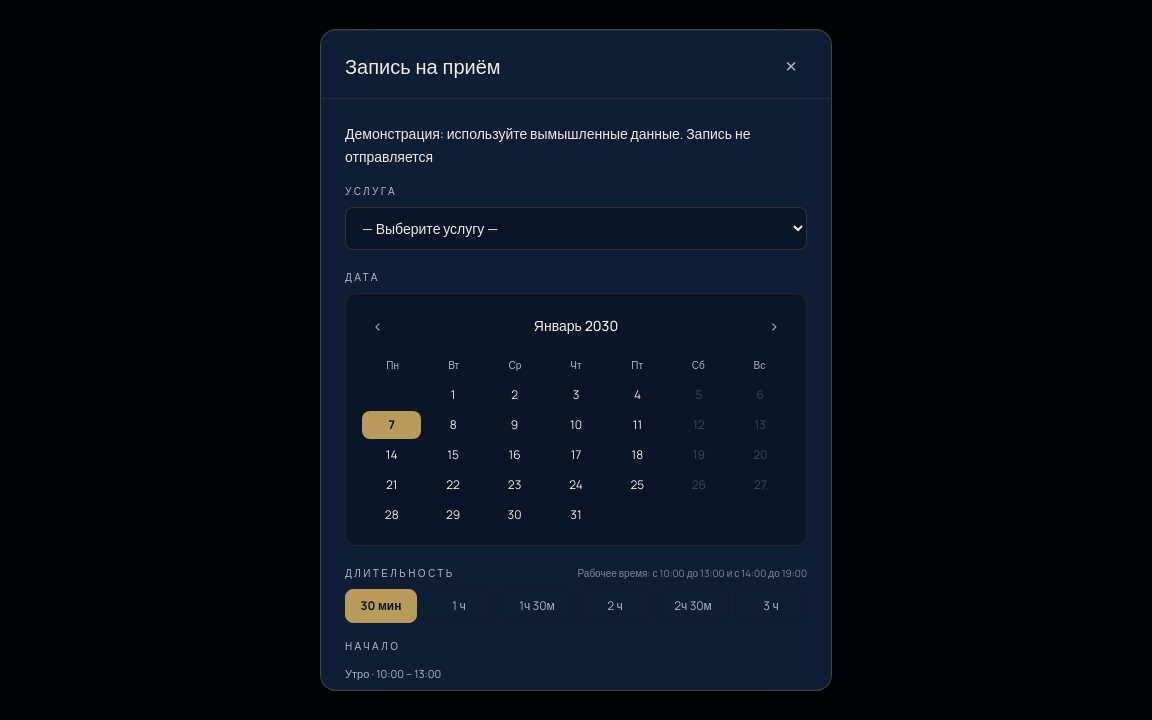
completes a browser-only demo with consent without any network requests
expect the text "Демонстрация: используйте вымышленные данные" is shown: met, box [345, 124, 750, 166]
Select "Удостоверение сделок с недвижимостью" in the dropdown: (576, 229) [345, 207, 807, 250]
(page scrolled)
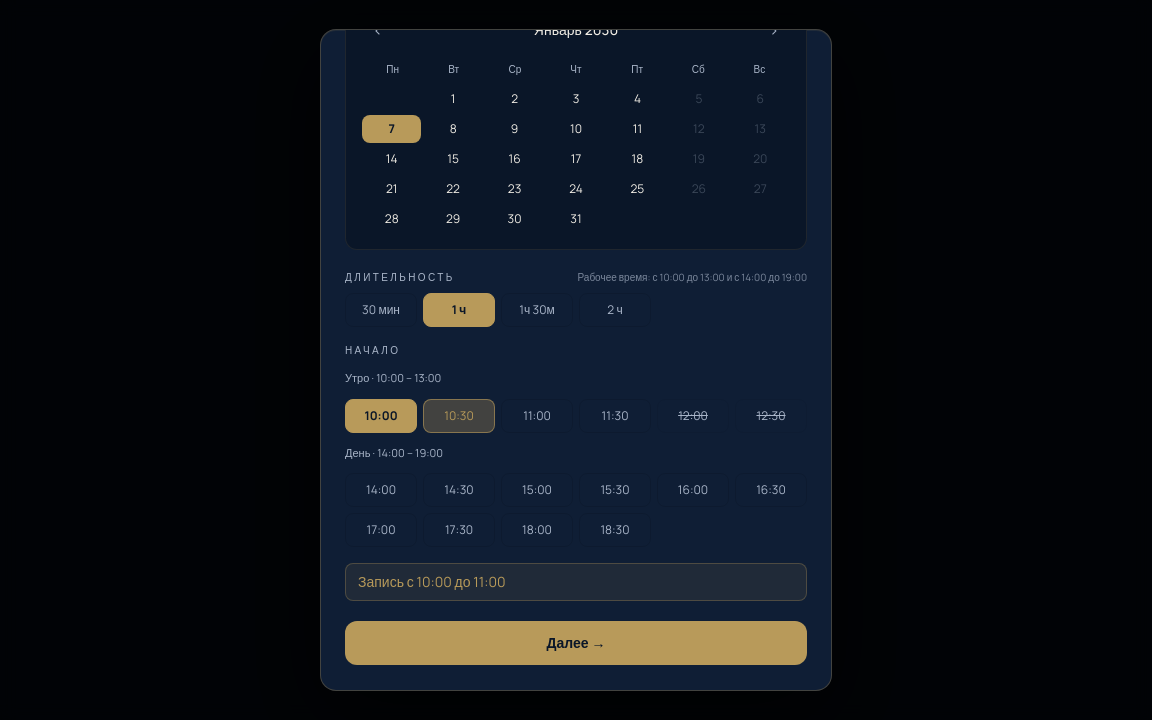
Click the button "Далее →": (576, 643) [345, 621, 807, 665]
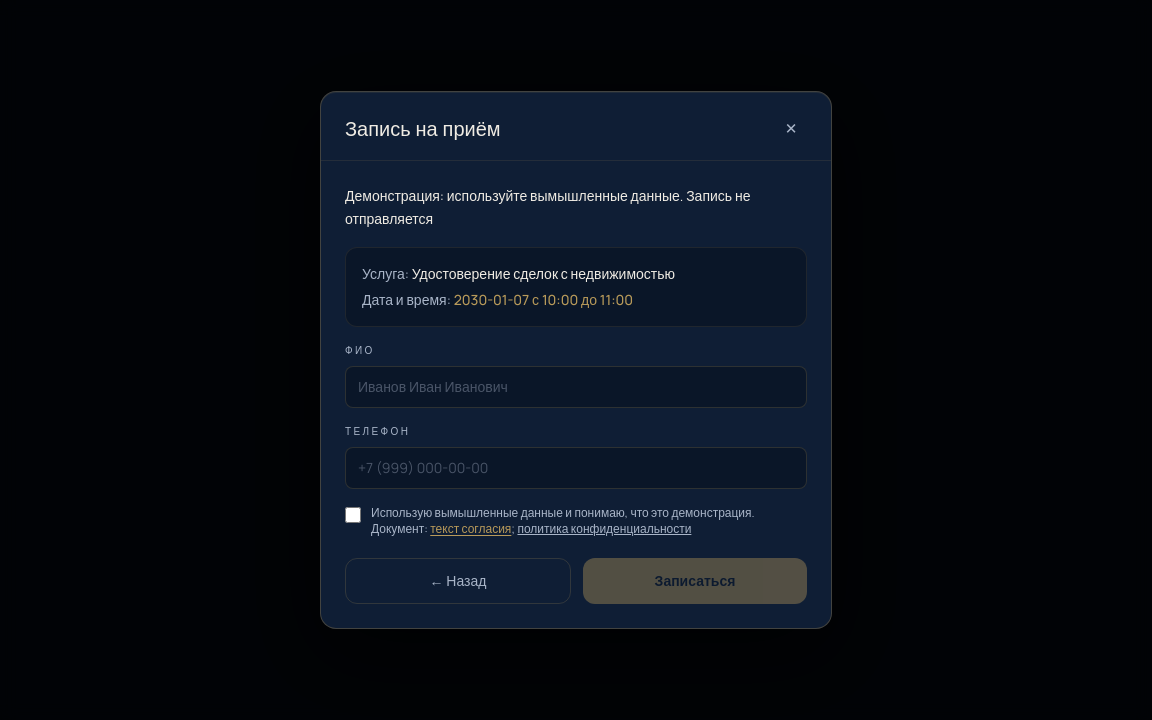
In the field with placeholder "Иванов Иван Иванович": (576, 387) [345, 366, 807, 408], type "Демо Тестовый"
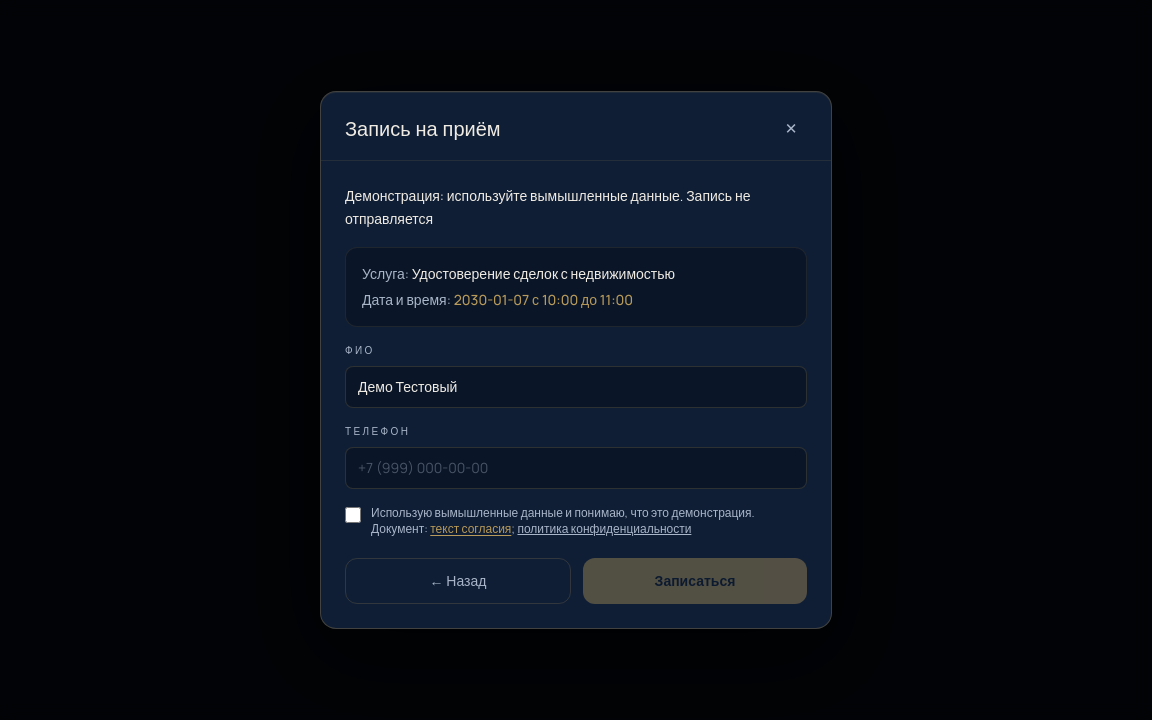
In the field with placeholder "+7 (999) 000-00-00": (576, 468) [345, 447, 807, 489], type "+7 (000) 000-00-00"
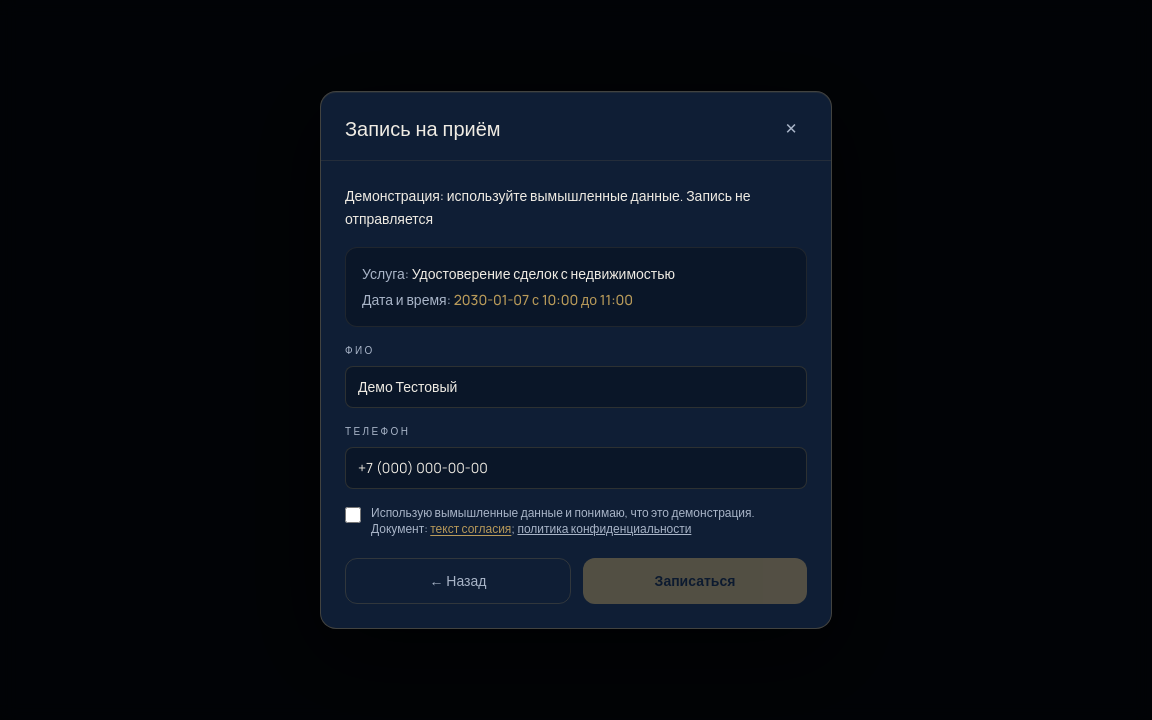
expect the button "Записаться" is disabled: met, box [583, 558, 807, 604]
Click the checkbox: (353, 515) [345, 507, 361, 523]
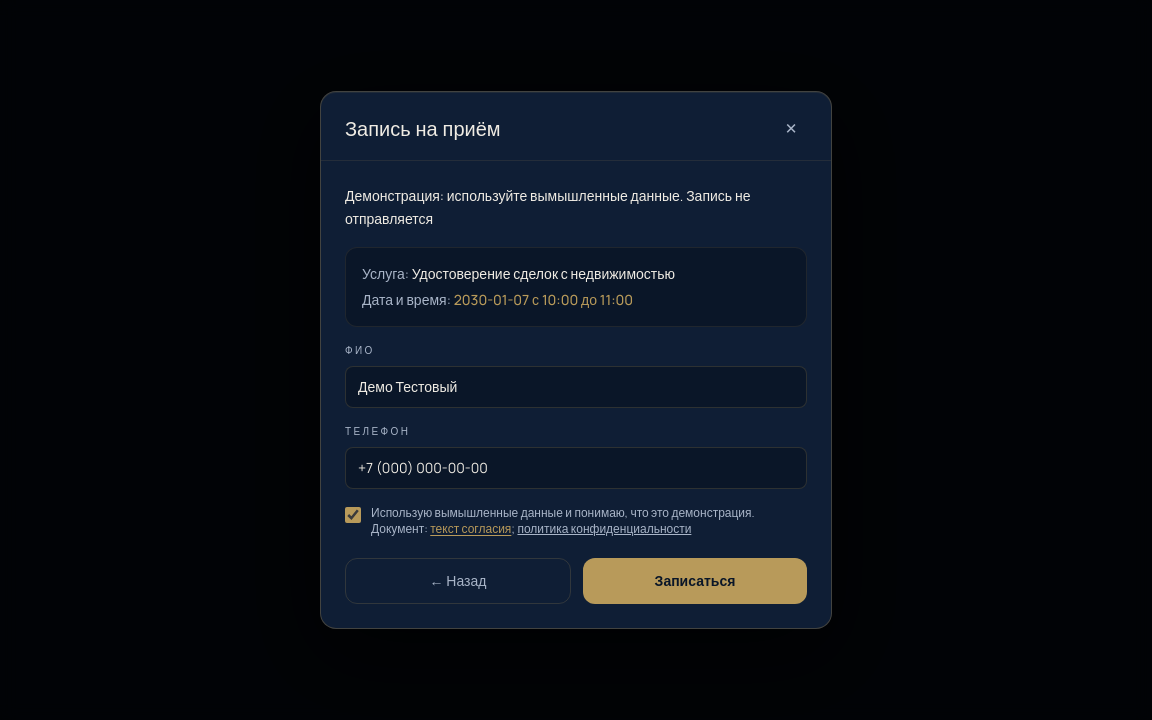
Click the button "Записаться": (695, 581) [583, 558, 807, 604]
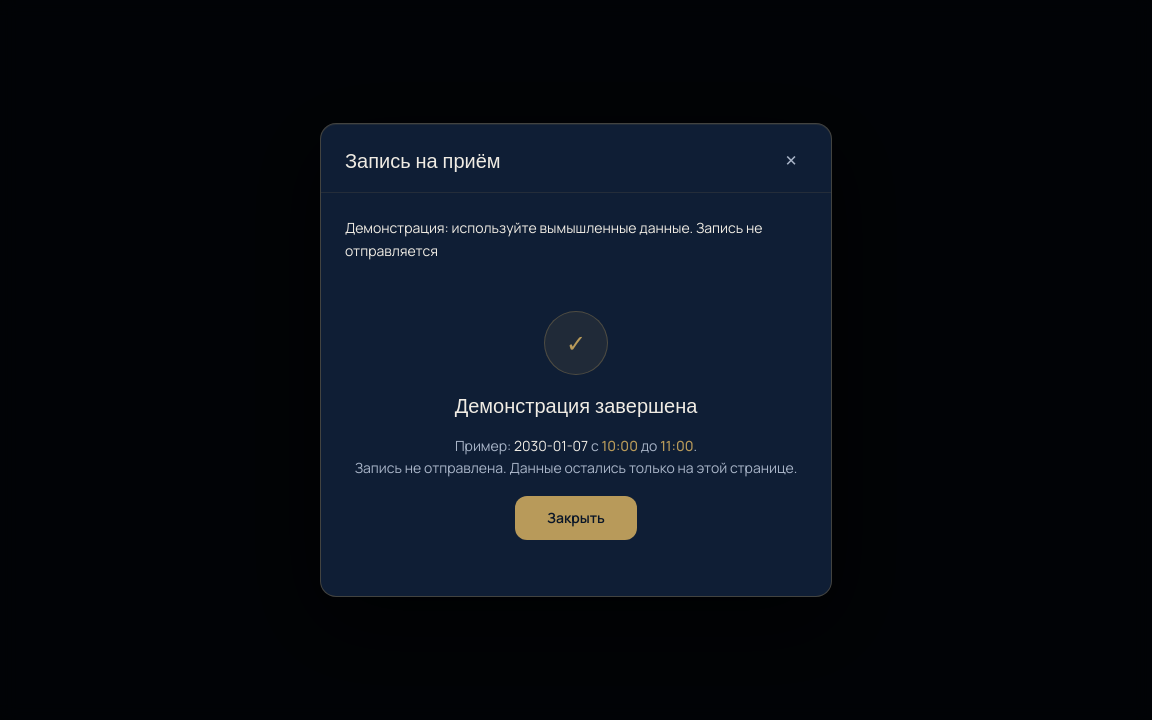
expect the heading "Демонстрация завершена" is shown: met, box [455, 390, 697, 418]
